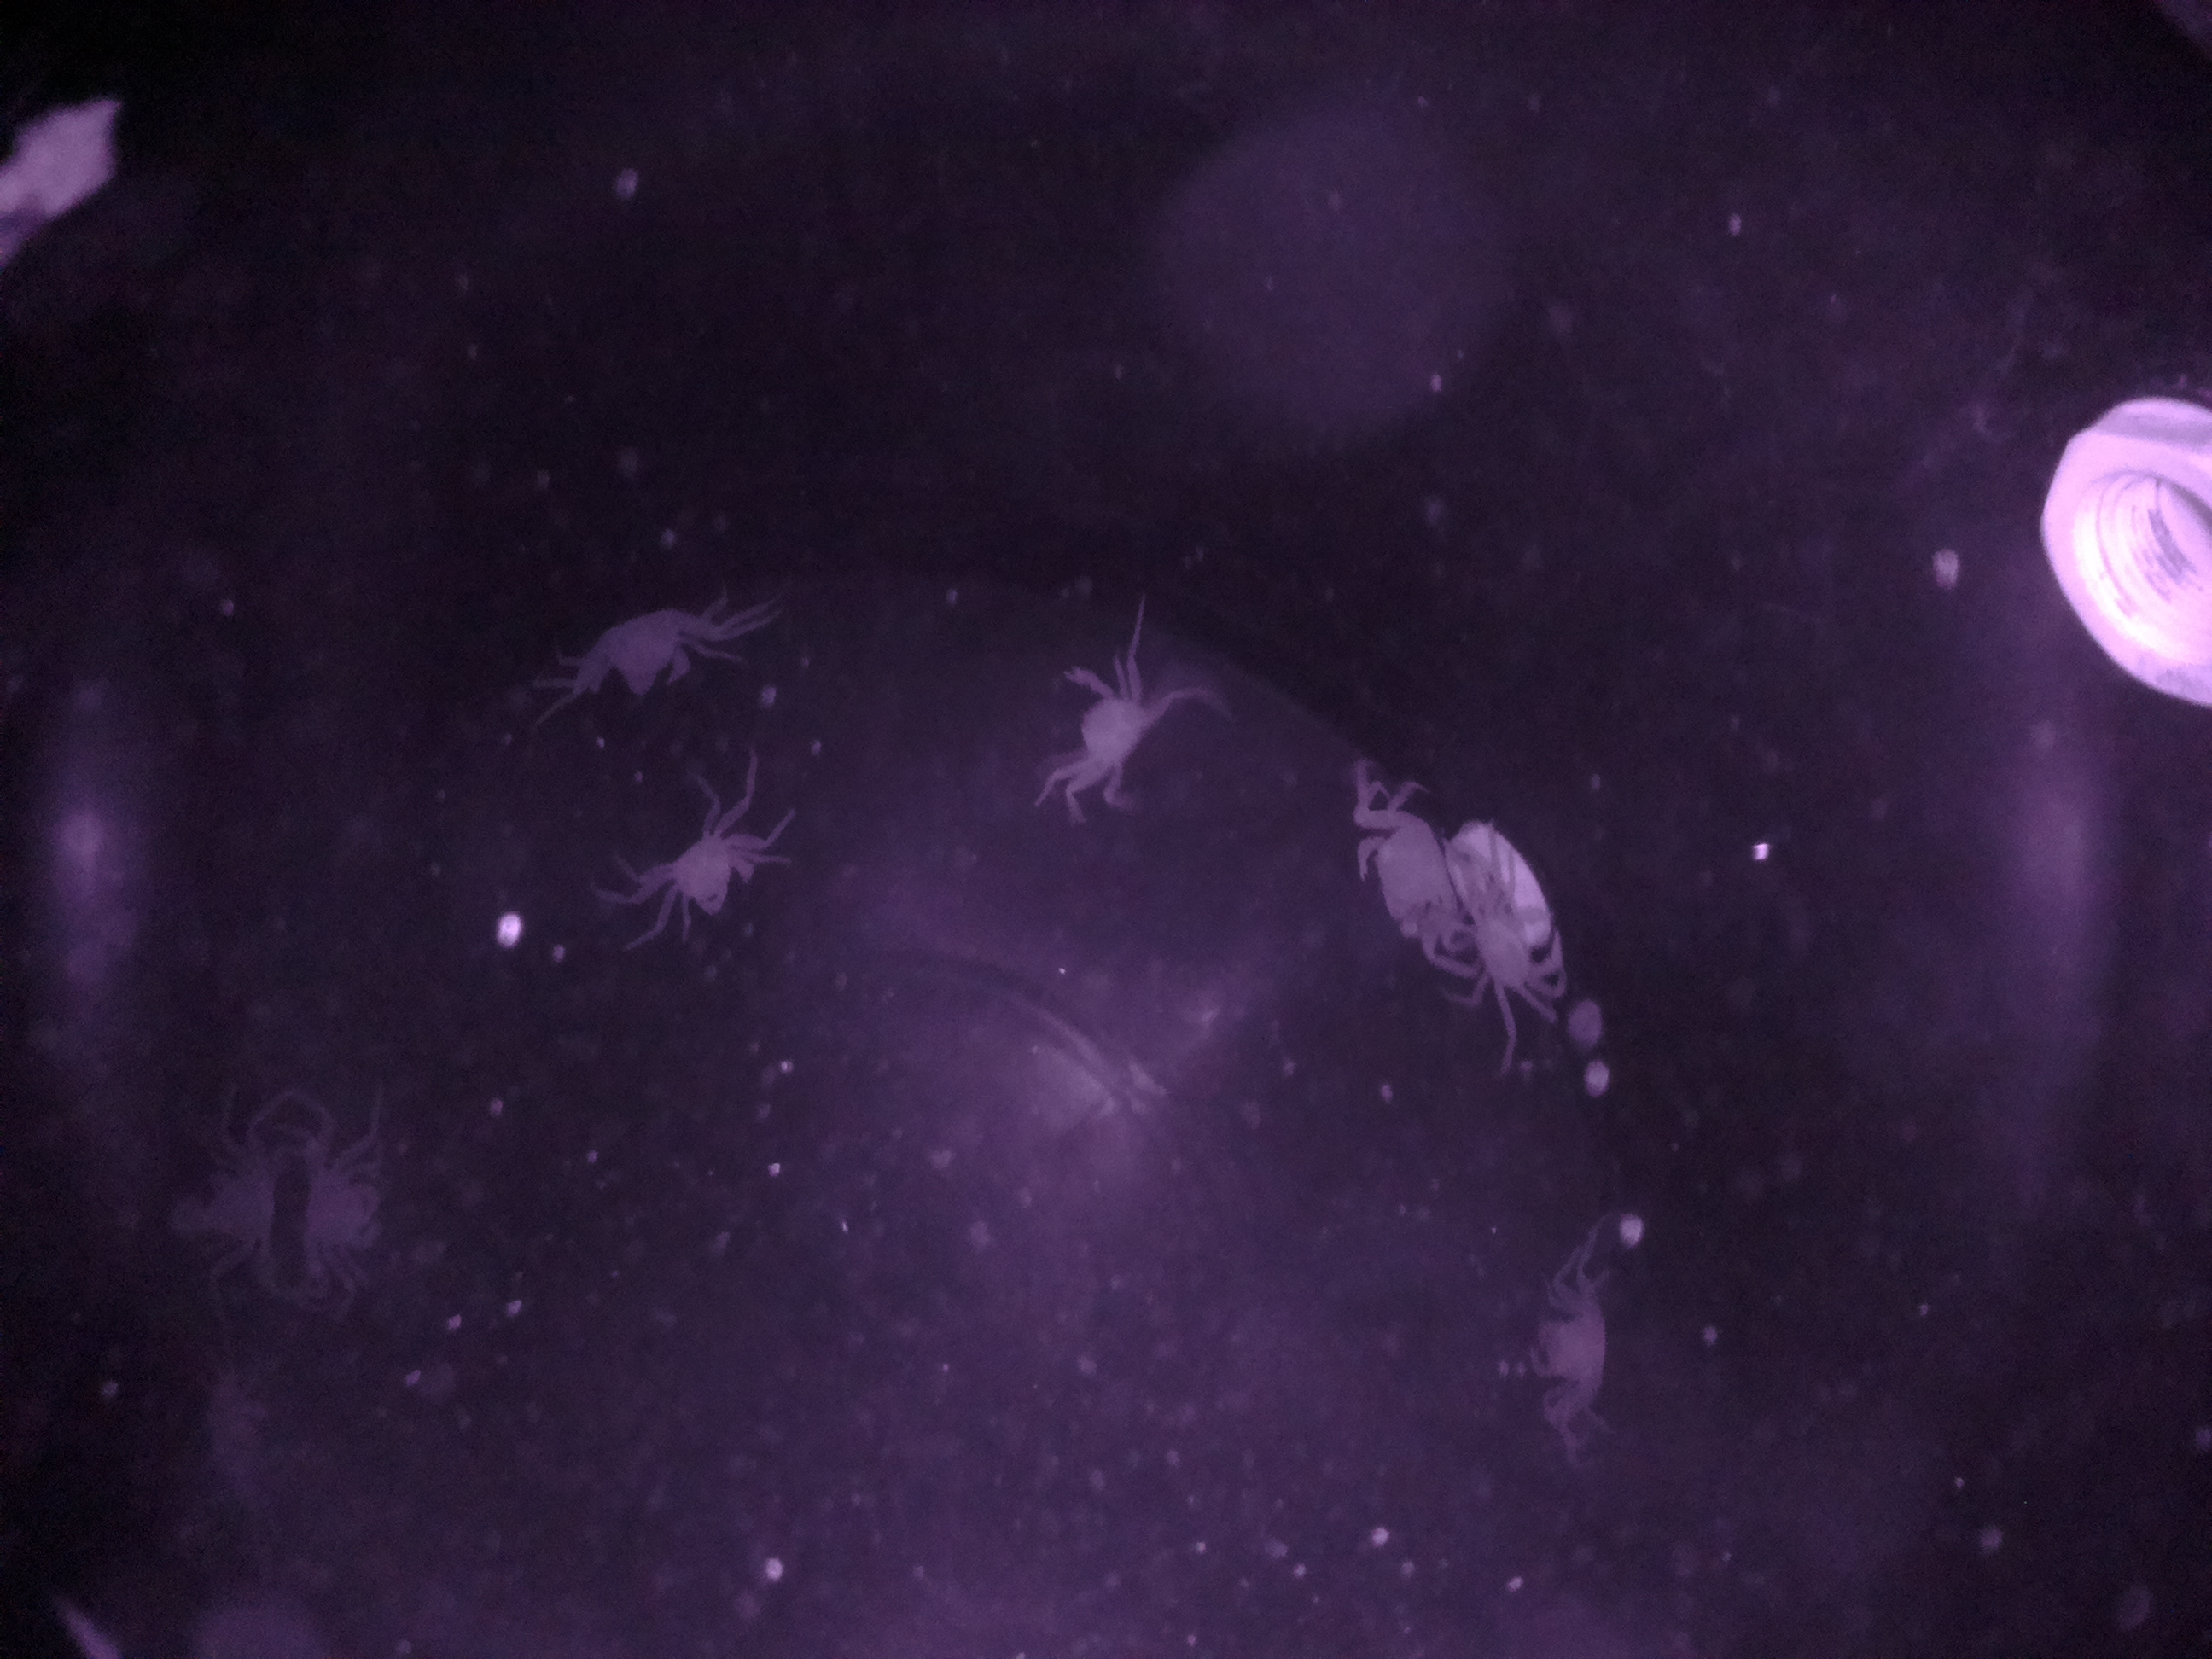Crab: (535, 577, 749, 728), (1022, 629, 1207, 796), (1439, 852, 1587, 1028), (1517, 1249, 1634, 1446), (643, 796, 782, 950)
